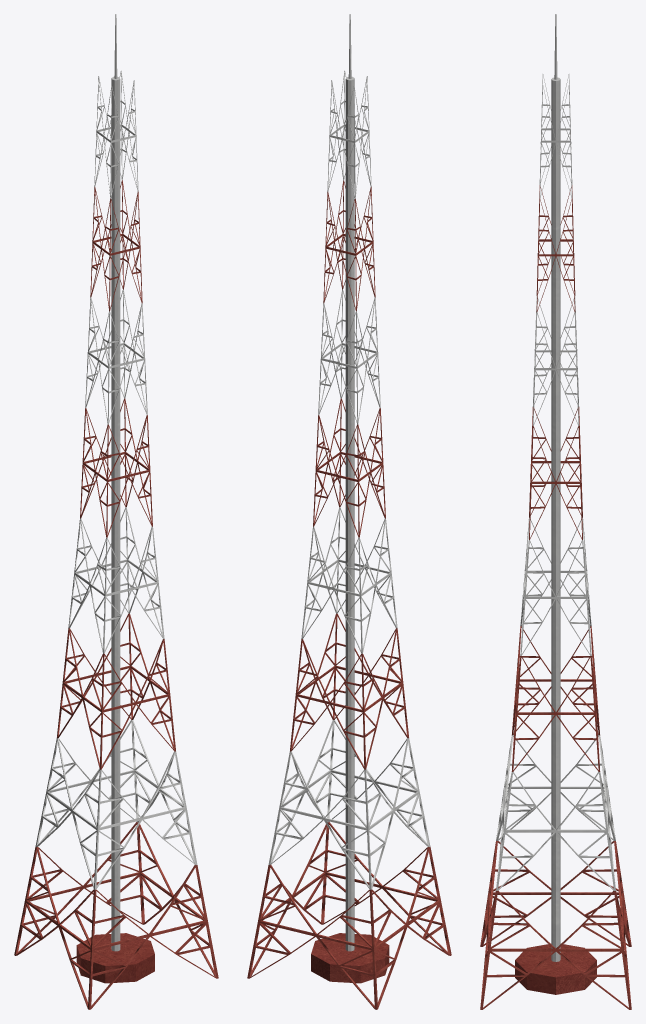
File: towerAntenna.fbx
3 renders of one model, left to right at view 1: azimuth 30°, elevation 25°; view 2: azimuth 150°, elevation 25°; view 3: azimuth 270°, elevation 25°, orthographic.
Visible parts, largest first — view 1: polySurface1; view 2: polySurface1; view 3: polySurface1.
Part boxes in pixels (left/top/right/bottom): polySurface1: left=14, top=14, right=218, bottom=1009; polySurface1: left=247, top=14, right=451, bottom=1009; polySurface1: left=480, top=14, right=631, bottom=1009.
Size of the model in its own units: 948 by 6658 by 948.
